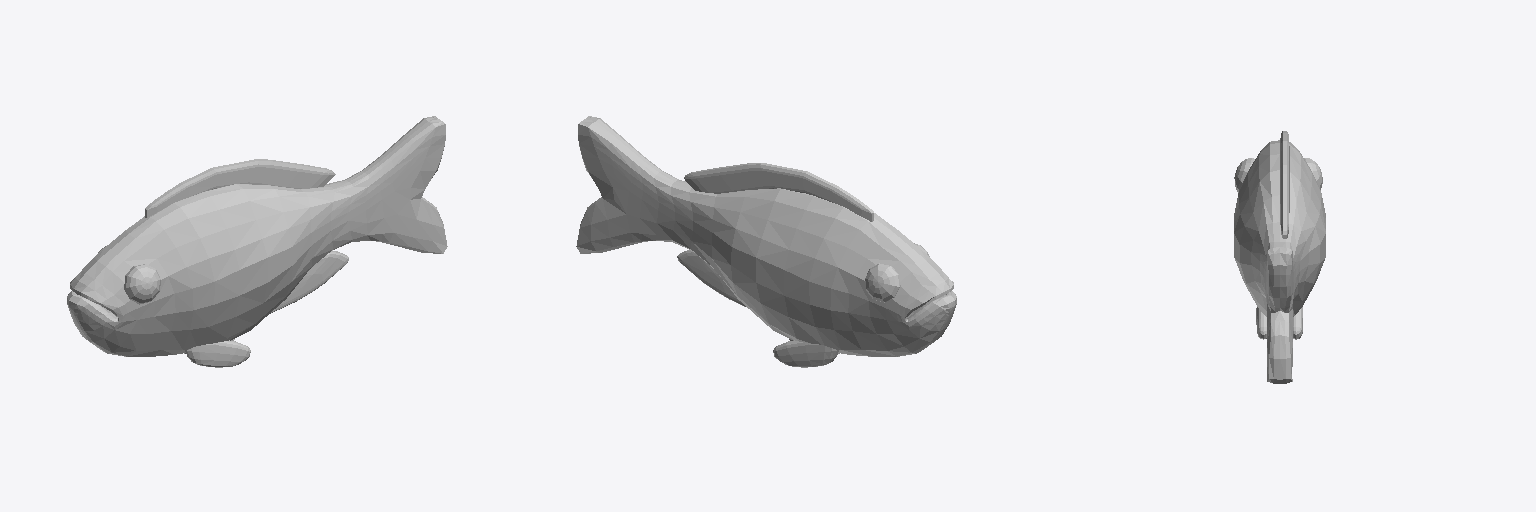
The model's file is SM_Fish_B.obj.
The picture shows the model from 3 angles: view 1: azimuth 30°, elevation 25°; view 2: azimuth 150°, elevation 25°; view 3: azimuth 270°, elevation 25°; orthographic projection.
Parts seen in each view (by area): view 1: polySurface93; view 2: polySurface93; view 3: polySurface93.
Part boxes in pixels (x1,y1,x2,y2): polySurface93: (67,116,447,367); polySurface93: (576,116,956,367); polySurface93: (1234,131,1325,383).
Size of the model in its own units: 6.41 by 3.13 by 1.38.